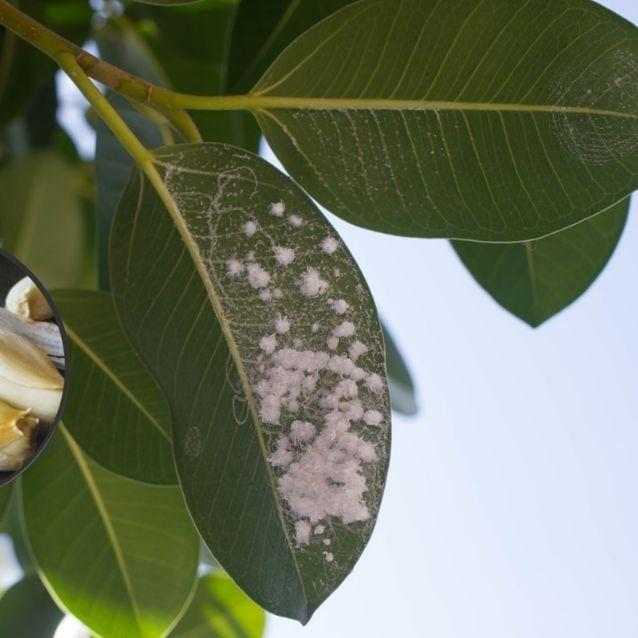pseudococcidae: (150, 145, 397, 598)
